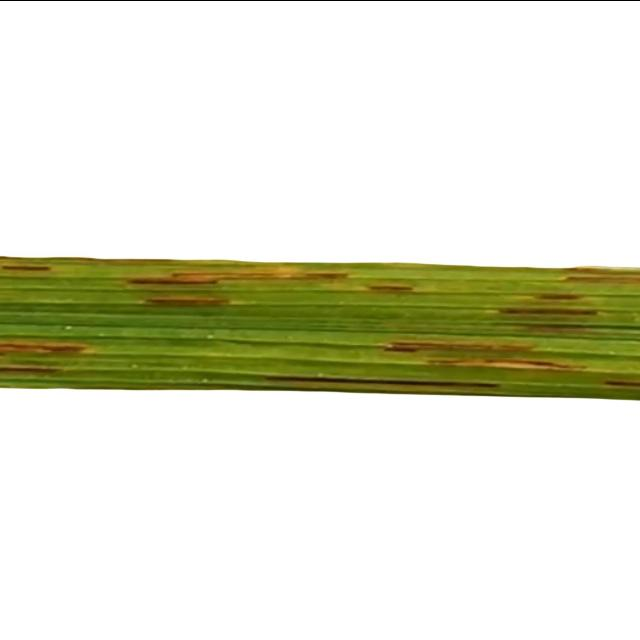Narrow brown: (0, 220, 640, 442)
